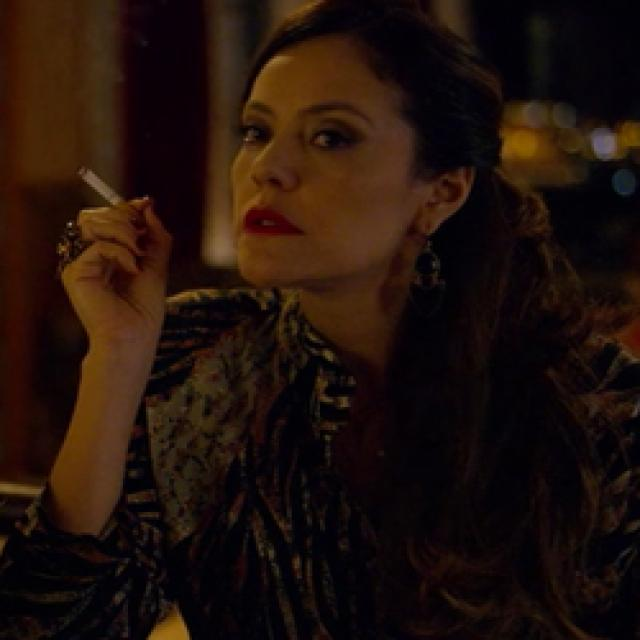Smooking: (72, 157, 130, 213)
